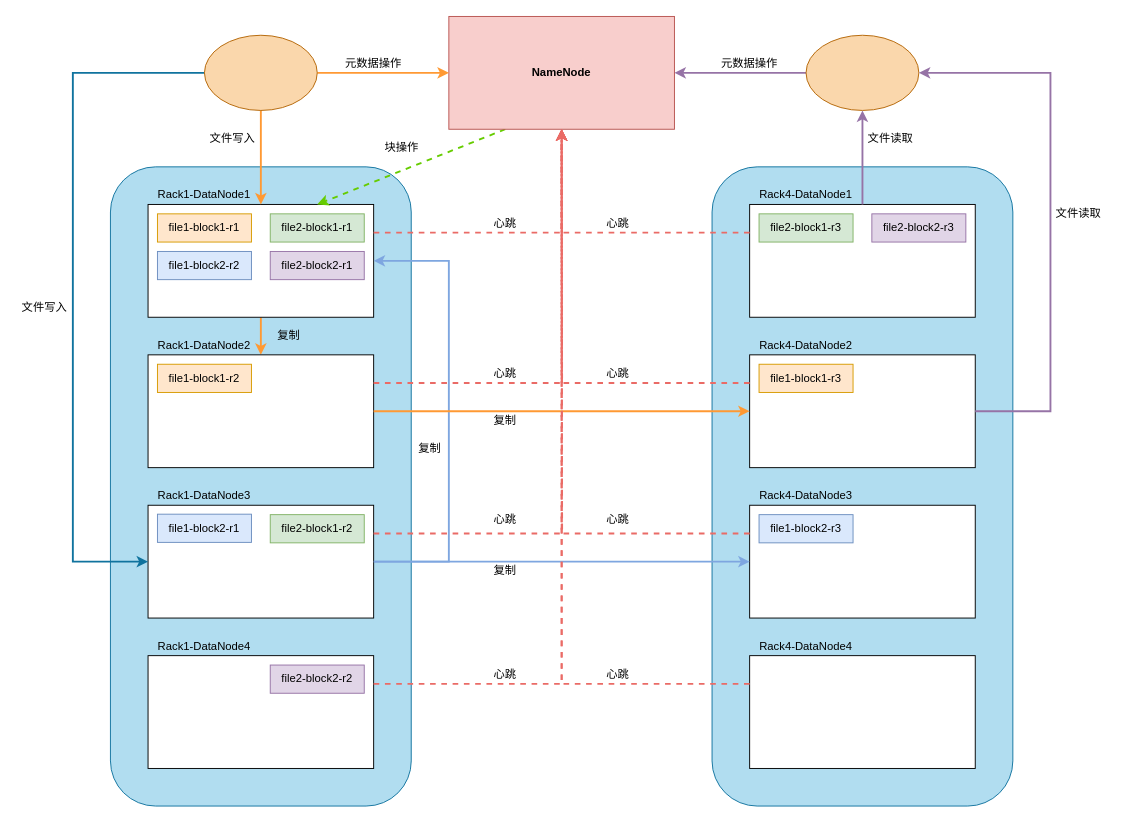
Some shapes in this 1122 by 823 pixel diagram are drawn without their labels. Each missing label, with the box of its shape:
Client1: (204, 34, 317, 110)
Client2: (805, 34, 919, 110)
